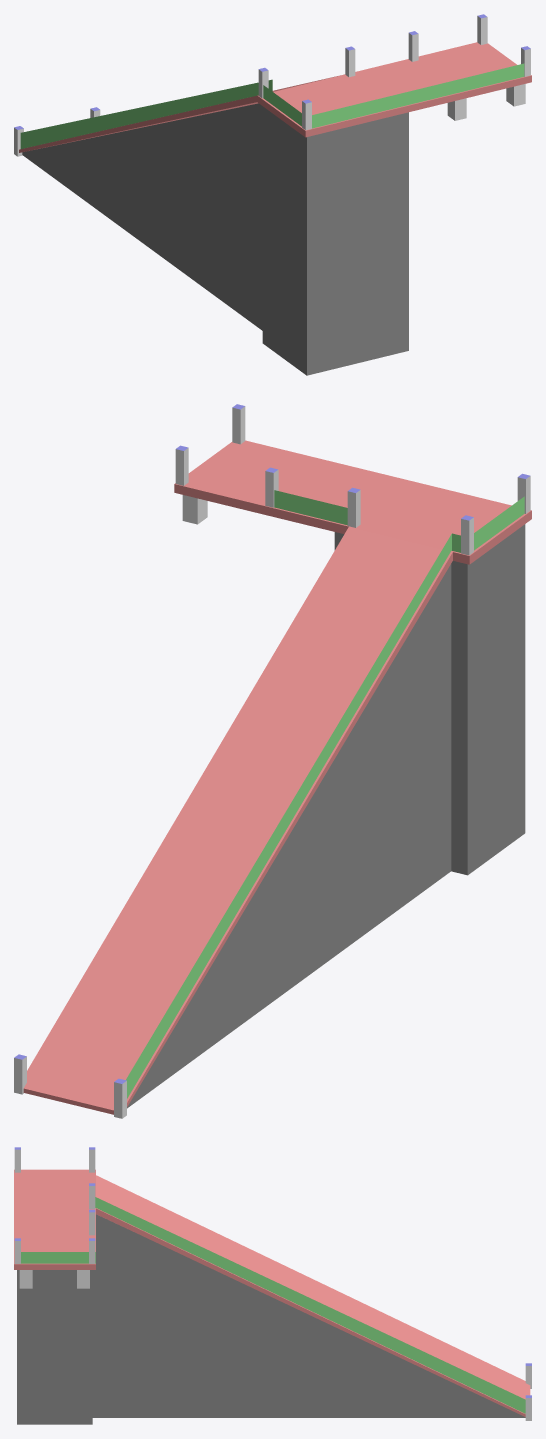
Rendered from L2fortress_02_s__fort02_command_stair01.gltf.
3 views of the same model, one above another, from view 1: azimuth 30°, elevation 25°; view 2: azimuth 150°, elevation 25°; view 3: azimuth 270°, elevation 25° (orthographic). The views are drawn at different scales.
Visible parts, largest first — view 1: fort02_command_stair01; view 2: fort02_command_stair01; view 3: fort02_command_stair01.
Boxes of the visible parts, bbox=[...] form: fort02_command_stair01: bbox=[14, 14, 531, 375]; fort02_command_stair01: bbox=[14, 404, 531, 1118]; fort02_command_stair01: bbox=[14, 1147, 531, 1424].
Size of the model in its own units: 3.55 by 4.11 by 8.23.
